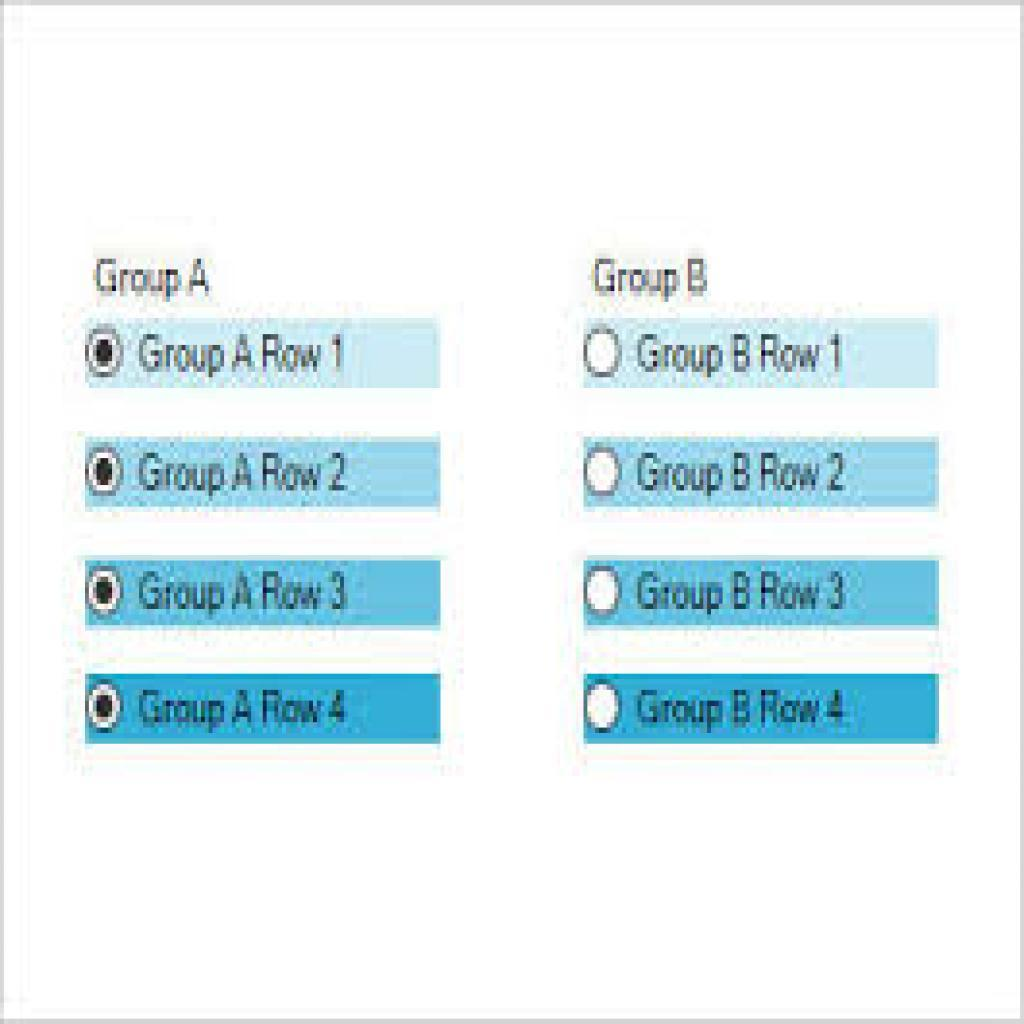radio: (581, 445, 625, 498), (584, 323, 624, 381), (84, 449, 127, 501), (86, 326, 125, 380), (86, 678, 123, 732), (584, 683, 623, 734), (584, 566, 622, 618), (86, 567, 124, 615)
